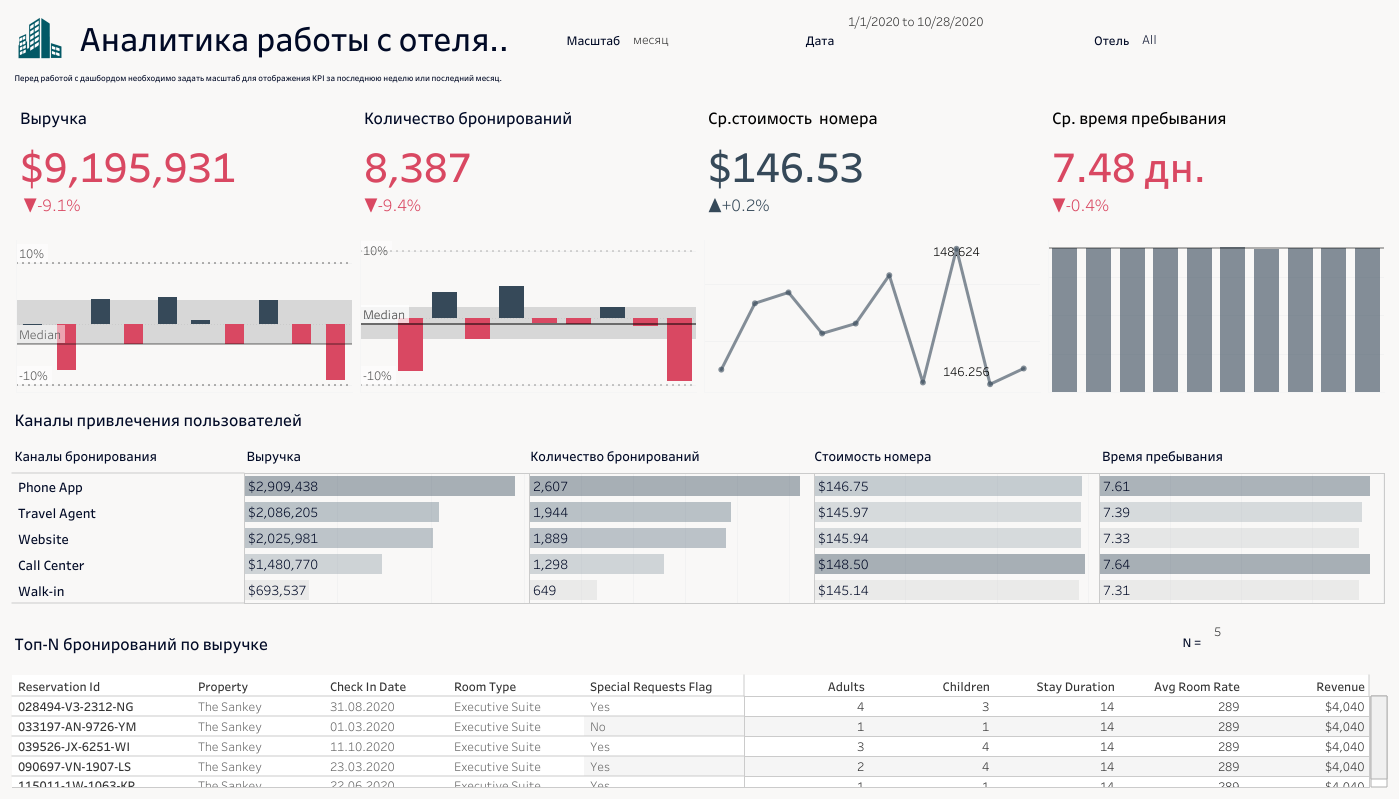

This screenshot's page, from the dashboard's own definition file:
{"tool":"tableau","page":{"name":"Дашборд отели","canvas":[1400,800],"ordinal":0},"visuals":[{"type":"image","param":"Image/png-clipart-logo-brand-building-angle-building-thumbnail.png","box":[8,8,64.9,60]},{"type":"text","box":[72.9,8,464.3,60]},{"type":"text","box":[537.2,8,90,60]},{"type":"parameter","param":"[Parameters].[Parameter 1]","box":[627.2,8,129,60]},{"type":"text","box":[756.2,8,85,60]},{"type":"filter","title":"SL Stay Duration ","param":"[federated.05r2enf0a73gba1850olj0ibmbxe].[none:Date:qk]","box":[841.2,8,225.7,60]},{"type":"text","box":[1066.9,8,69,60]},{"type":"filter","title":"Каналы бронирования","param":"[federated.05r2enf0a73gba1850olj0ibmbxe].[none:Property:nk]","box":[1135.9,8,256.1,60]},{"type":"text","box":[8,68,1384,20]},{"type":"worksheet","title":"Выручка","mark":"Automatic","box":[12,96,344,140]},{"type":"worksheet","title":"Количество бронирований","mark":"Automatic","box":[356,96,344,140]},{"type":"worksheet","title":"KPI roomrate","mark":"Automatic","box":[700,96,344,140]},{"type":"worksheet","title":"KPI Stay Duration","mark":"Automatic","box":[1044,96,344,140]},{"type":"worksheet","title":"Выручка динамика","mark":"Bar","rows":["Calculation_992762260192452608"],"cols":["Calculation_992762260266008577"],"box":[12,236,344,160]},{"type":"worksheet","title":"Количество бронирований динамика","mark":"Bar","rows":["reservation_id"],"cols":["Calculation_992762260279246851"],"box":[356,236,344,160]},{"type":"worksheet","title":"SL roomrate","mark":"Automatic","rows":["Avg Room Rate"],"cols":["Calculation_1089871127824490501"],"box":[700,236,344,160]},{"type":"worksheet","title":"SL Stay Duration ","mark":"Bar","rows":["stay_duration"],"cols":["Calculation_1089871127838883847"],"box":[1044,236,344,160]},{"type":"text","box":[8,400,1384,69]},{"type":"worksheet","title":"Каналы бронирования","mark":"Bar","rows":["booking_channel"],"cols":["Calculation_256986671475240970","CD Revenue (copy)_1488158219674603524","CD Stay Duration (copy)_1089871127861809166","CD Revenue (copy)_1089871127839891464"],"box":[8,469,1384,143]},{"type":"text","box":[8,612,822,59]},{"type":"text","box":[830,612,378,59]},{"type":"parameter","param":"[Parameters].[Parameter 2]","box":[1208,612,184,59]},{"type":"worksheet","title":"Top-N","mark":"Automatic","rows":["reservation_id","Property","check_in_date","room_type","special_requests_flag"],"box":[8,671,1384,121]}]}

Visuals, with their boxes in screenshot pixels (x1, y1, x2, y2), scaled from the page's 1400x800 canvas onto the 1399x799 screenshot:
image: {"x1": 8, "y1": 8, "x2": 73, "y2": 68}
text: {"x1": 73, "y1": 8, "x2": 537, "y2": 68}
text: {"x1": 537, "y1": 8, "x2": 627, "y2": 68}
parameter: {"x1": 627, "y1": 8, "x2": 756, "y2": 68}
text: {"x1": 756, "y1": 8, "x2": 841, "y2": 68}
"SL Stay Duration " filter: {"x1": 841, "y1": 8, "x2": 1066, "y2": 68}
text: {"x1": 1066, "y1": 8, "x2": 1135, "y2": 68}
"Каналы бронирования" filter: {"x1": 1135, "y1": 8, "x2": 1391, "y2": 68}
text: {"x1": 8, "y1": 68, "x2": 1391, "y2": 88}
"Выручка" worksheet: {"x1": 12, "y1": 96, "x2": 356, "y2": 236}
"Количество бронирований" worksheet: {"x1": 356, "y1": 96, "x2": 700, "y2": 236}
"KPI roomrate" worksheet: {"x1": 700, "y1": 96, "x2": 1043, "y2": 236}
"KPI Stay Duration" worksheet: {"x1": 1043, "y1": 96, "x2": 1387, "y2": 236}
"Выручка динамика" worksheet (Bar marks): {"x1": 12, "y1": 236, "x2": 356, "y2": 396}
"Количество бронирований динамика" worksheet (Bar marks): {"x1": 356, "y1": 236, "x2": 700, "y2": 396}
"SL roomrate" worksheet: {"x1": 700, "y1": 236, "x2": 1043, "y2": 396}
"SL Stay Duration " worksheet (Bar marks): {"x1": 1043, "y1": 236, "x2": 1387, "y2": 396}
text: {"x1": 8, "y1": 400, "x2": 1391, "y2": 468}
"Каналы бронирования" worksheet (Bar marks): {"x1": 8, "y1": 468, "x2": 1391, "y2": 611}
text: {"x1": 8, "y1": 611, "x2": 829, "y2": 670}
text: {"x1": 829, "y1": 611, "x2": 1207, "y2": 670}
parameter: {"x1": 1207, "y1": 611, "x2": 1391, "y2": 670}
"Top-N" worksheet: {"x1": 8, "y1": 670, "x2": 1391, "y2": 791}
